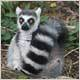cat: (7, 7, 68, 79)
